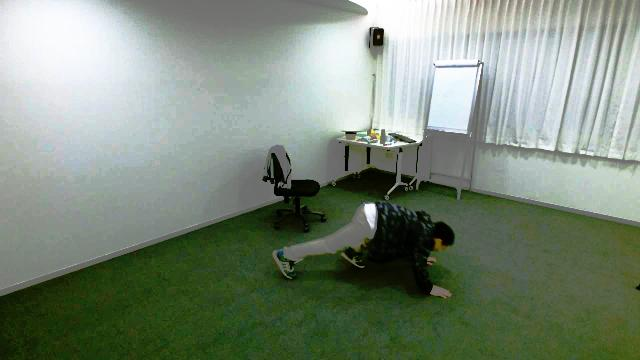jatuh: (268, 190, 460, 304)
